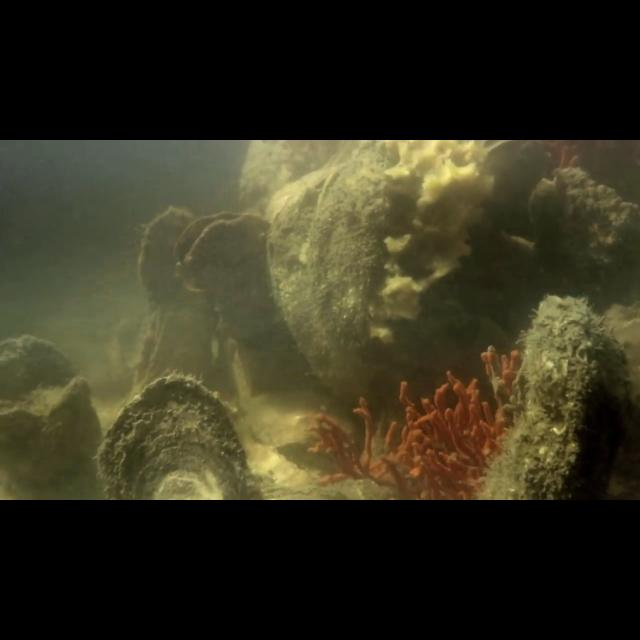Oyster-Closed: (481, 289, 636, 497), (264, 166, 366, 414), (304, 146, 400, 389), (89, 366, 264, 496), (518, 165, 633, 302), (139, 206, 225, 363), (21, 376, 105, 500), (0, 332, 78, 417)
Oyster-Open: (166, 202, 275, 299)
